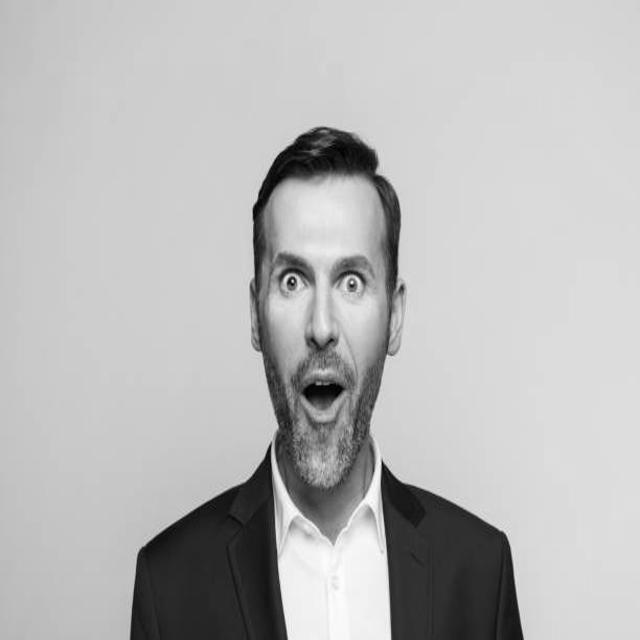Surprised: (260, 172, 388, 502)
